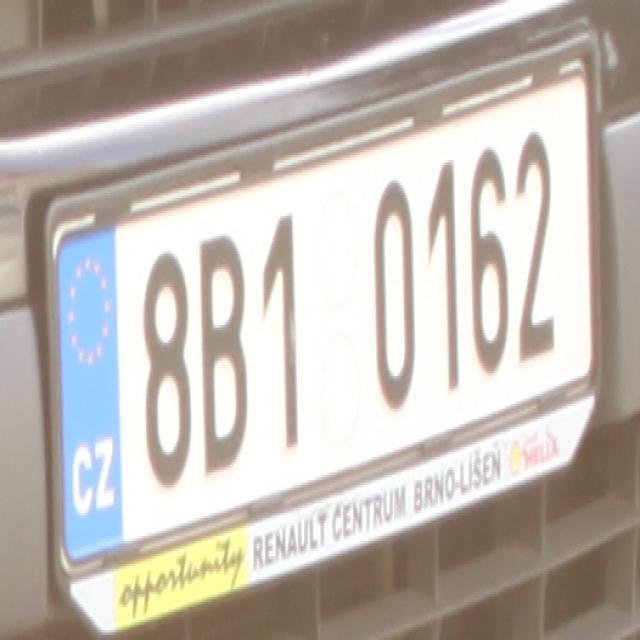0: (371, 178, 416, 419)
1: (260, 213, 306, 457), (426, 158, 462, 402)
2: (514, 132, 556, 363)
6: (472, 145, 509, 376)
8: (143, 248, 190, 491)
B: (197, 233, 251, 482)
